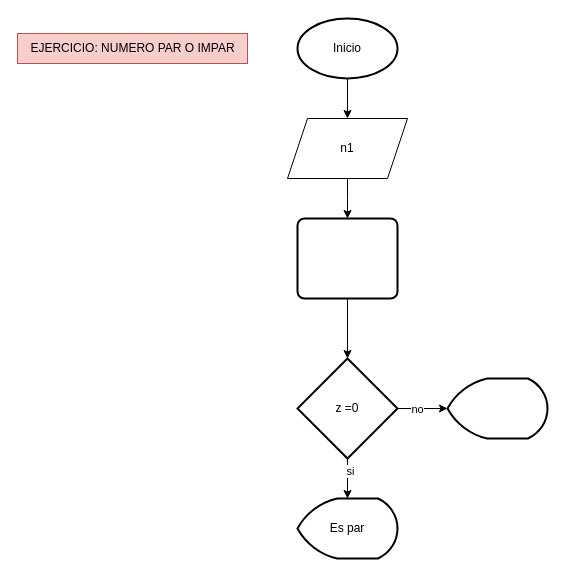
Image size: 566x576. Some labels were removed from this diagram. Here are the shapes that lost their labels. From the top down, the centre of each, then its label:
At point (347, 258): "z = n1/2".
At point (497, 408): "No es par".
